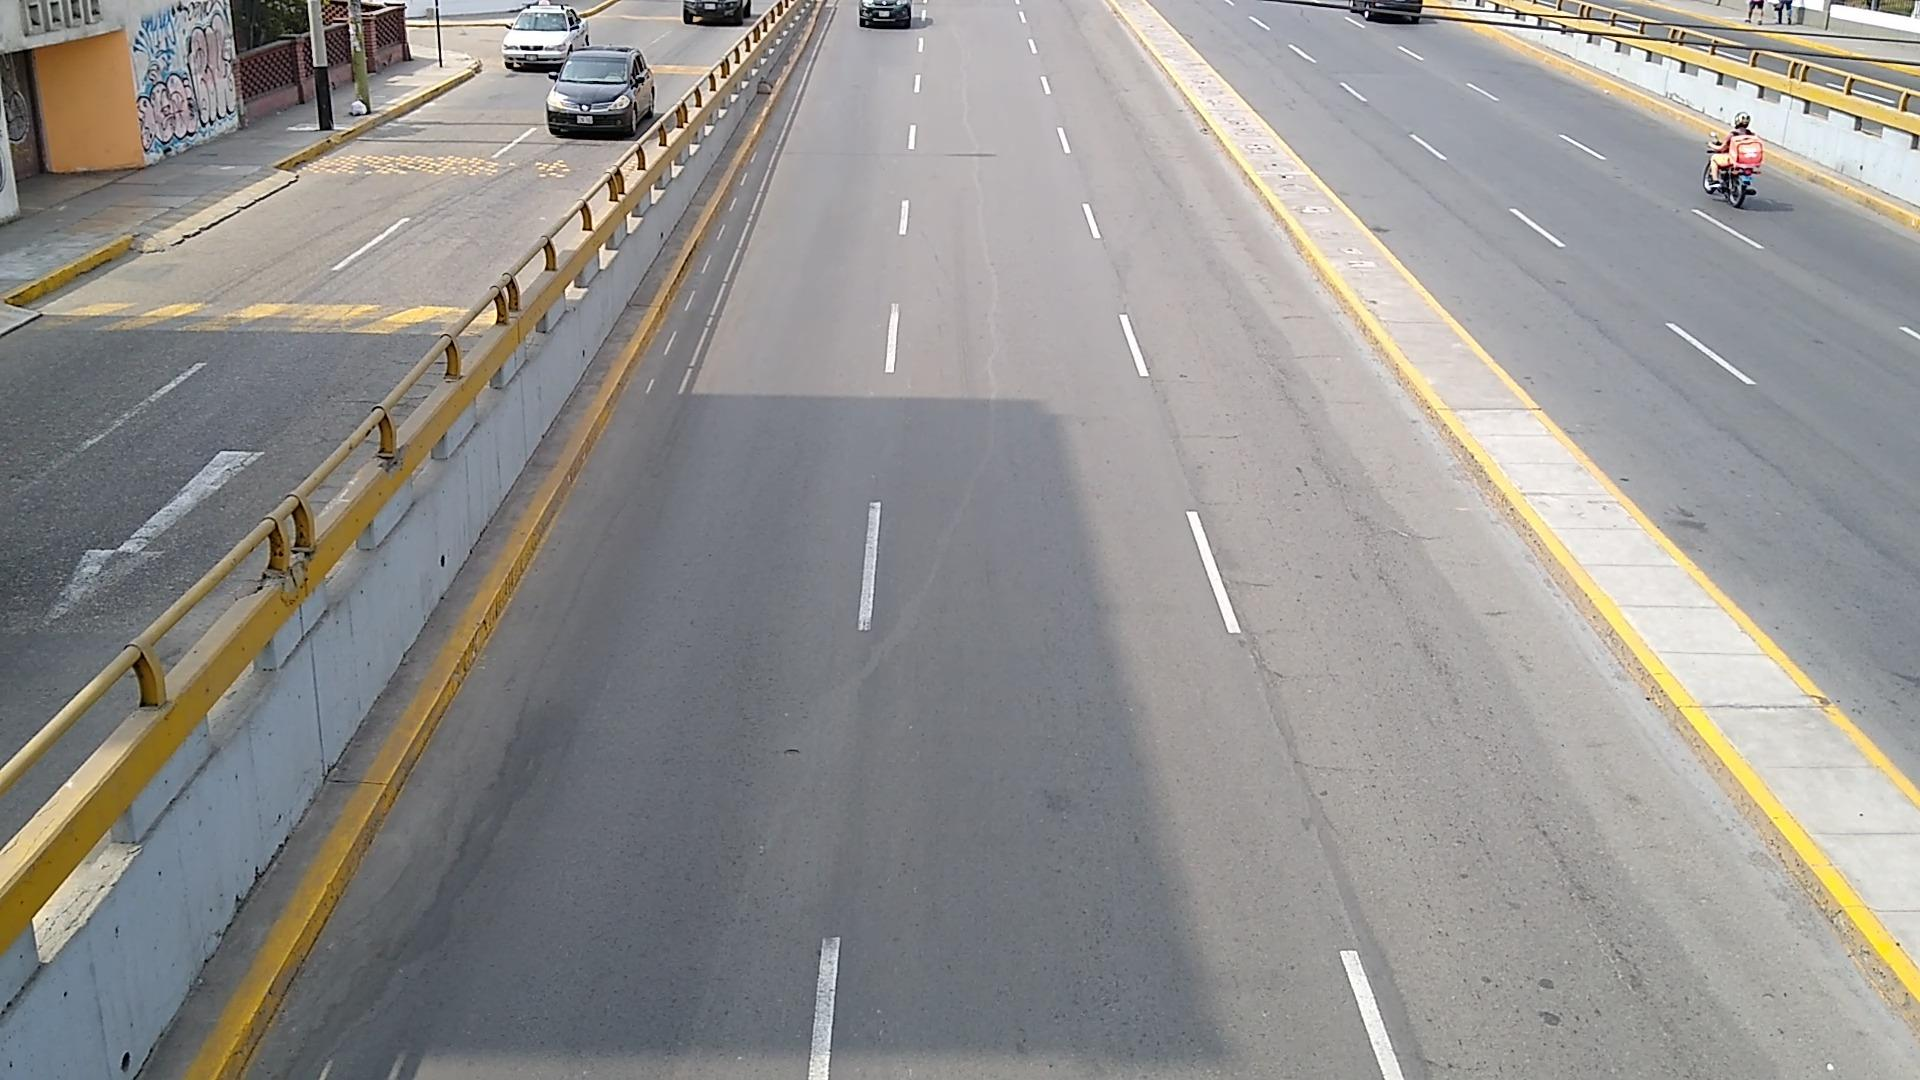car: (548, 45, 656, 135), (502, 4, 589, 68)
motorcycle: (1702, 165, 1755, 208)
motorcyclist: (1706, 112, 1766, 189)
